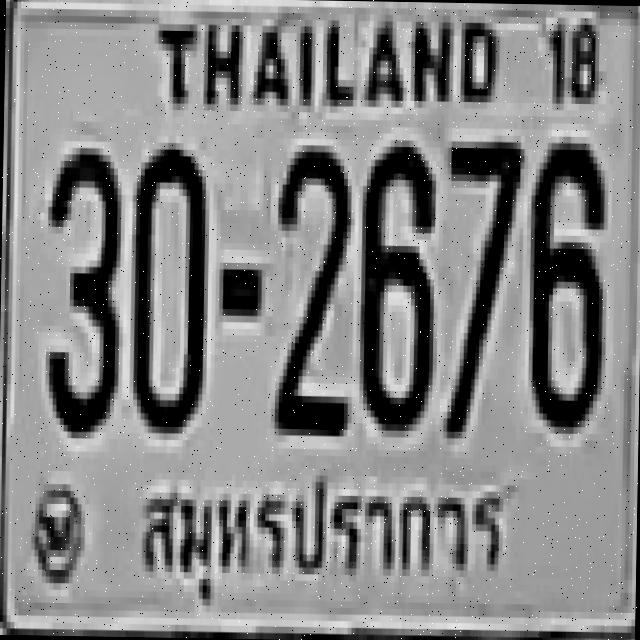0: (128, 142, 206, 427)
2: (272, 138, 350, 430)
3: (42, 140, 120, 432)
6: (523, 135, 601, 427), (354, 140, 432, 424)
7: (442, 134, 520, 432)
SamutPrakan: (134, 466, 506, 588)
